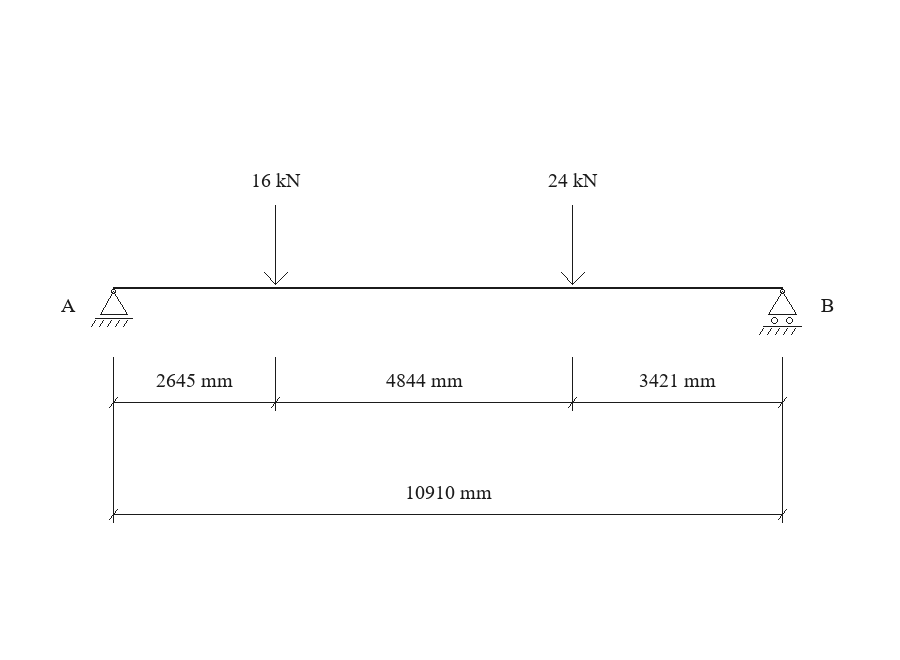pin_support: (91, 289, 133, 327)
point_load: (264, 205, 288, 285), (561, 205, 585, 285)
roller_support: (759, 289, 802, 335)
